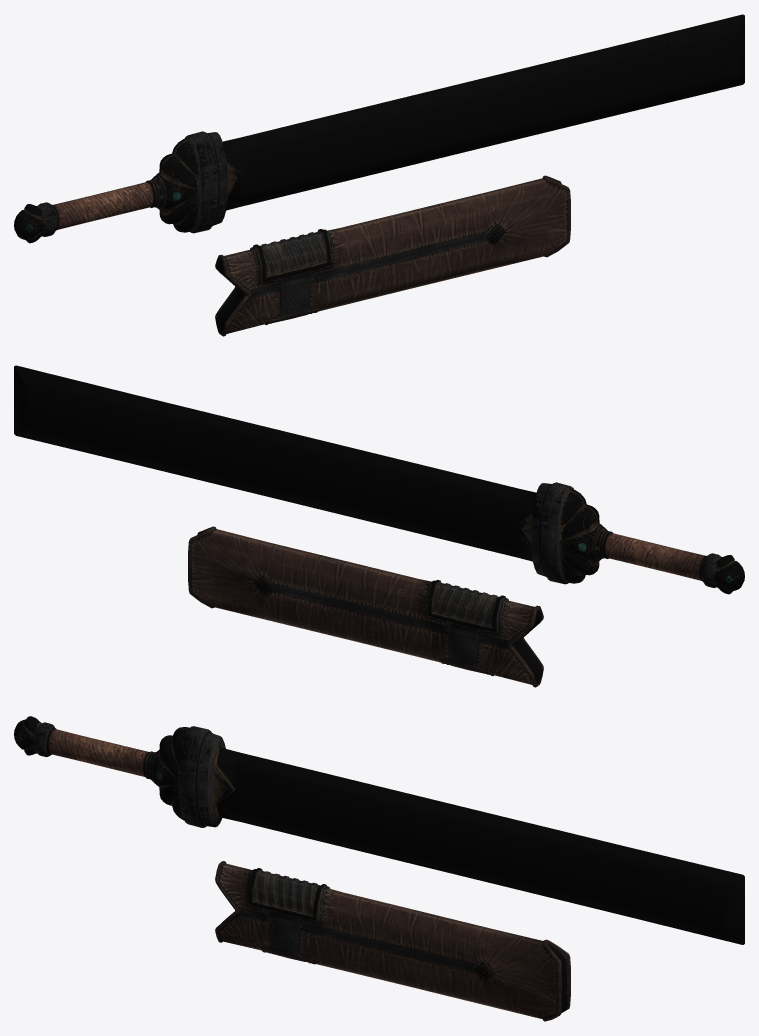
File: Brolyviewer001out.fbx
3 renders of one model, top to bottom at view 1: azimuth 30°, elevation 25°; view 2: azimuth 150°, elevation 25°; view 3: azimuth 330°, elevation 25°, orthographic.
Parts seen in each view (by area): view 1: GuardianSword_low_0, GuardianScabbard_low_0; view 2: GuardianSword_low_0, GuardianScabbard_low_0; view 3: GuardianSword_low_0, GuardianScabbard_low_0.
Boxes of the visible parts, x1,y1,x2,y2 form: GuardianSword_low_0: [14, 14, 744, 243]; GuardianScabbard_low_0: [215, 175, 570, 336]; GuardianSword_low_0: [14, 365, 744, 594]; GuardianScabbard_low_0: [188, 526, 543, 687]; GuardianSword_low_0: [14, 716, 744, 944]; GuardianScabbard_low_0: [215, 861, 570, 1021].
Size of the model in its own units: 19.92 by 5.4 by 1.1.
